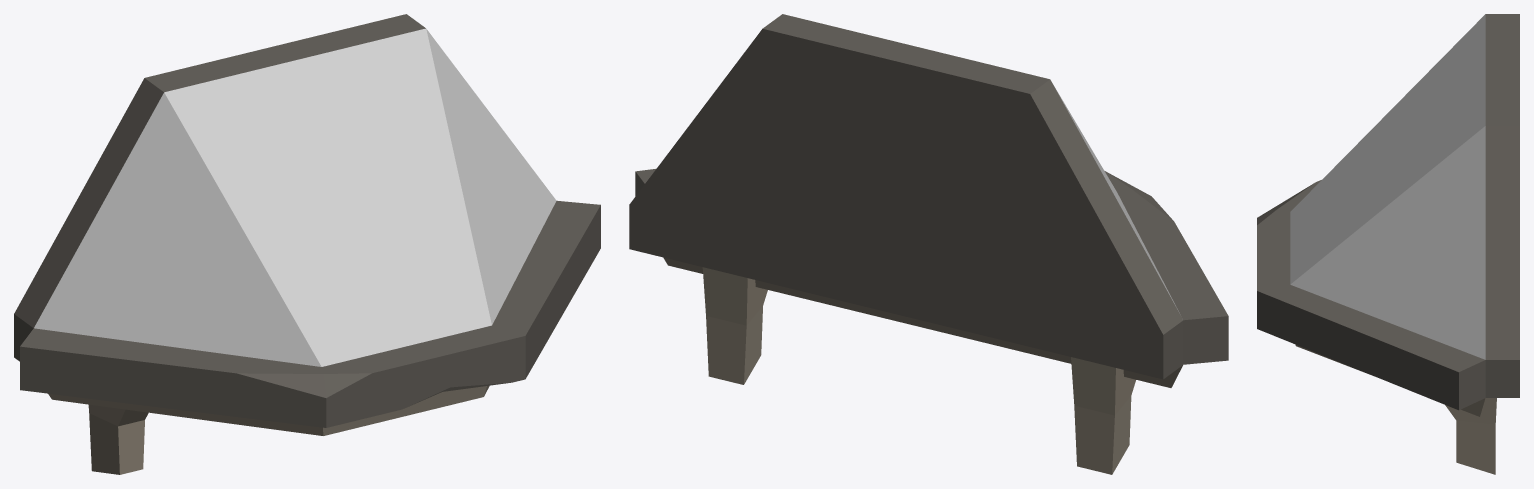
Rendered from SM_Bld_Wall_Window_Topper_01.fbx.
3 views of the same model, side by side, from view 1: azimuth 30°, elevation 25°; view 2: azimuth 150°, elevation 25°; view 3: azimuth 270°, elevation 25° (orthographic). The views are drawn at different scales.
Visible parts, largest first — view 1: SM_Bld_Wall_Window_Topper_01; view 2: SM_Bld_Wall_Window_Topper_01; view 3: SM_Bld_Wall_Window_Topper_01.
Part boxes in pixels (box(x1,y1,x2,y2)): SM_Bld_Wall_Window_Topper_01: box(14, 14, 600, 474); SM_Bld_Wall_Window_Topper_01: box(629, 14, 1228, 474); SM_Bld_Wall_Window_Topper_01: box(1257, 14, 1519, 474).
Bounding box in the file's own units: 192 × 116 × 85.95.
